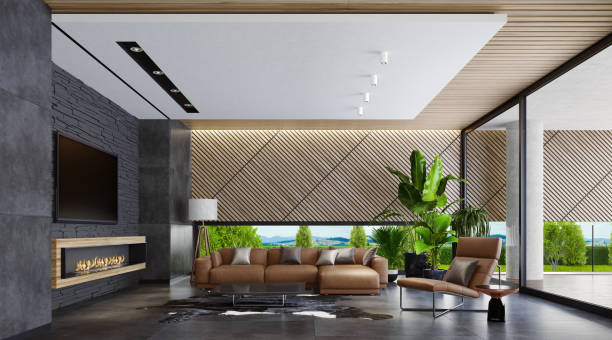TV: (51, 129, 120, 226)
TV stand: (50, 234, 149, 288)
chair: (395, 235, 504, 319)
floor lamp: (185, 196, 221, 258)
large plant: (388, 150, 461, 279)
sofa: (192, 243, 391, 299)
